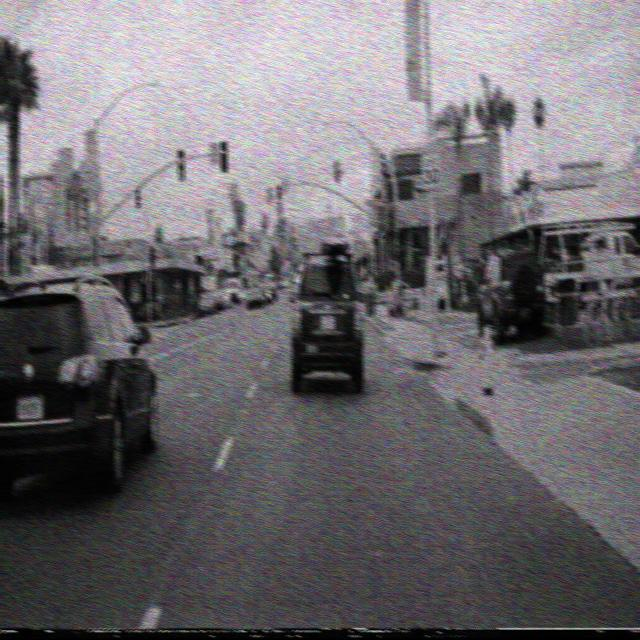speedLimit30: (420, 141, 441, 190)
